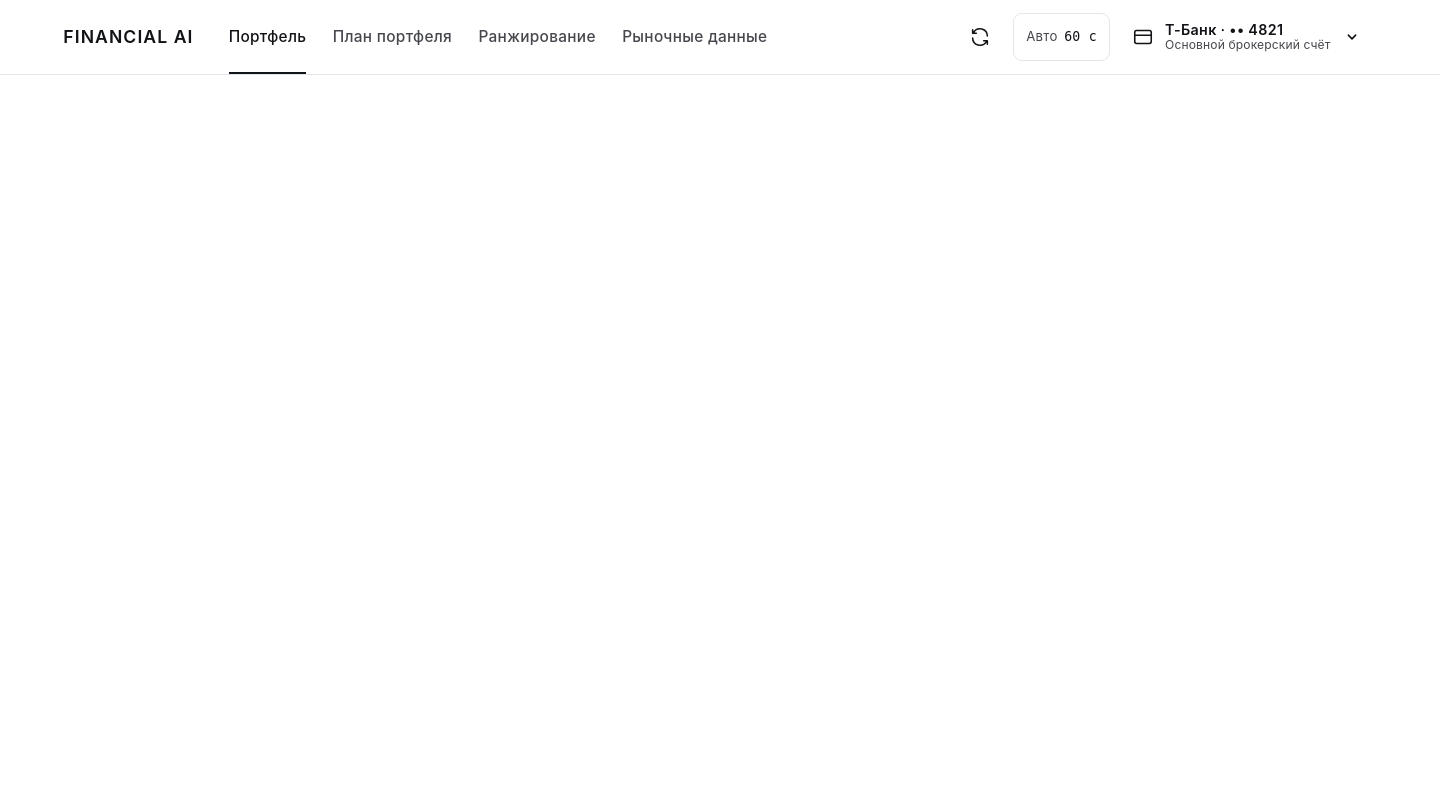
Test: ручное обновление › различает обрыв связи с сервером
Click the button named "Обновить данные" at point(980, 37), box [956,13,1004,61]
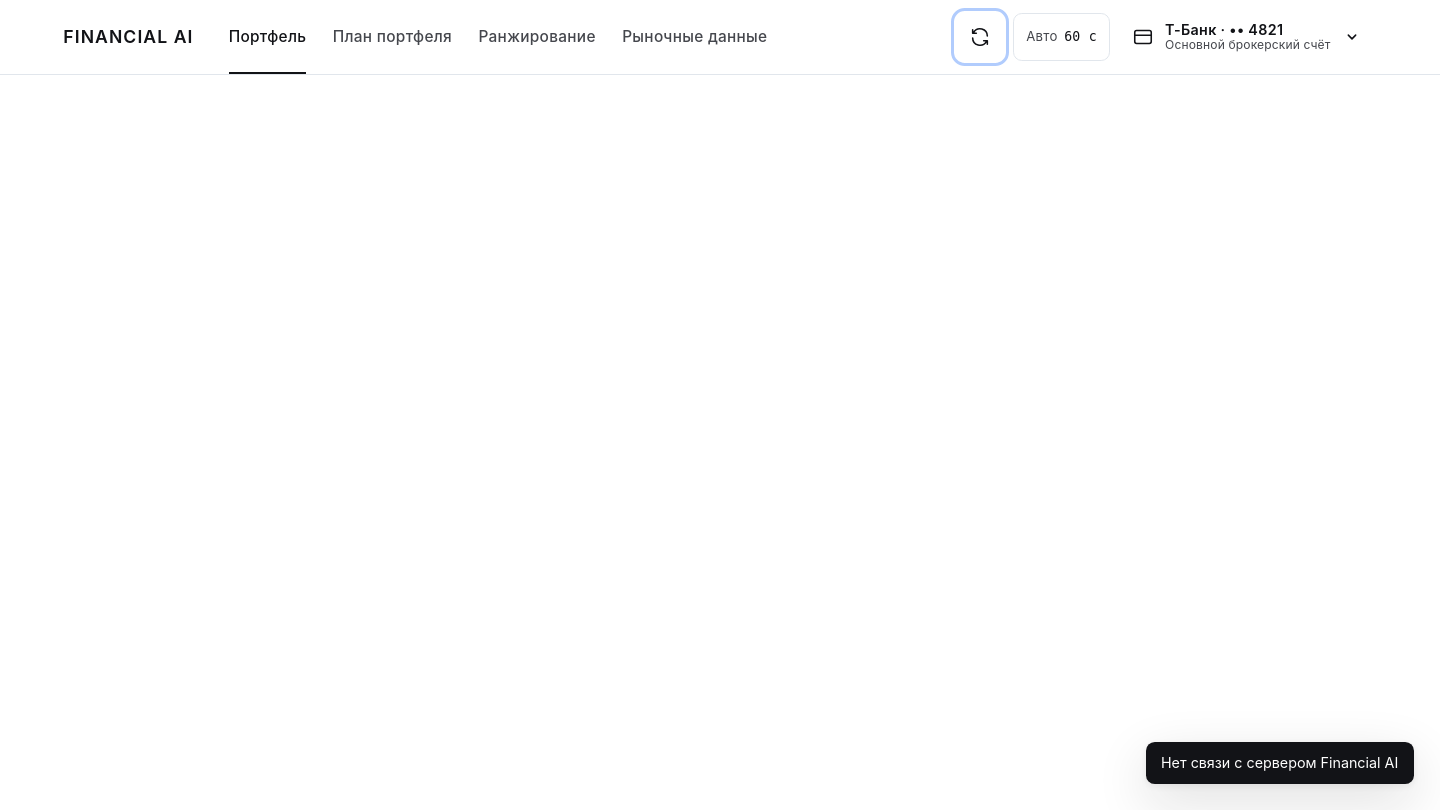
Check: the text "Нет связи с сервером Financial AI" is shown, box [1146,742,1414,784]
